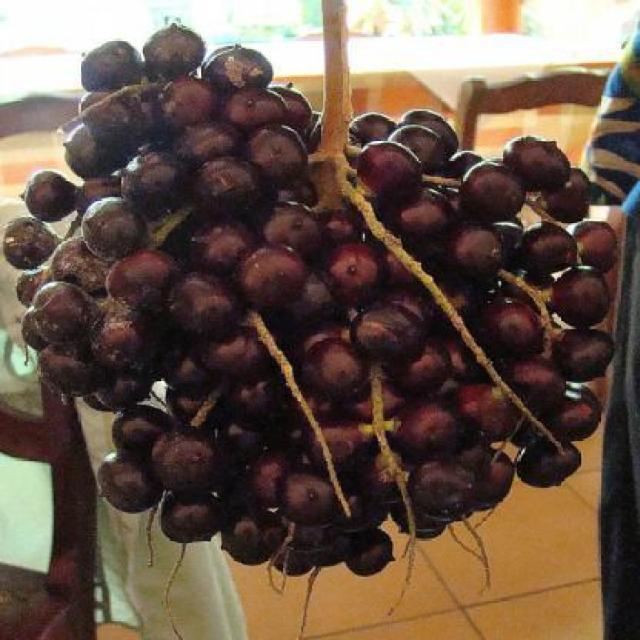Grape: (7, 22, 618, 578)
